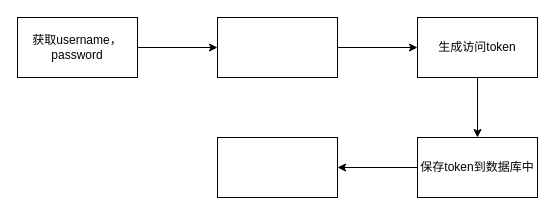
Some shapes in this 555 by 215 pixel diagram are drawn without their labels. The shapes that lost their labels are listed below. From the top down, each one's centre as x and y in pixels, then its label:
At [277,47]: "校验用户名，密码".
At [277,167]: "响应".
